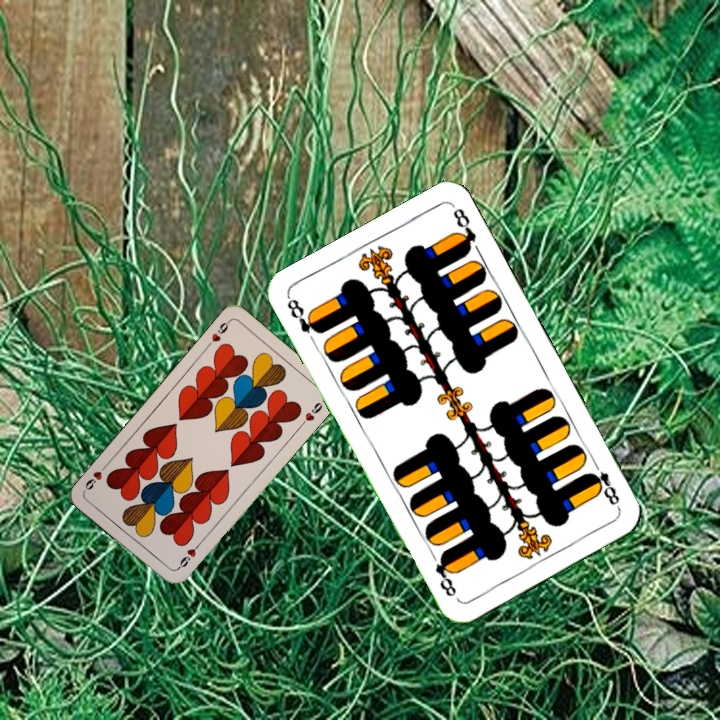E8: (584, 457, 623, 511), (283, 293, 325, 337)
H9: (203, 316, 233, 350), (173, 538, 203, 572)
